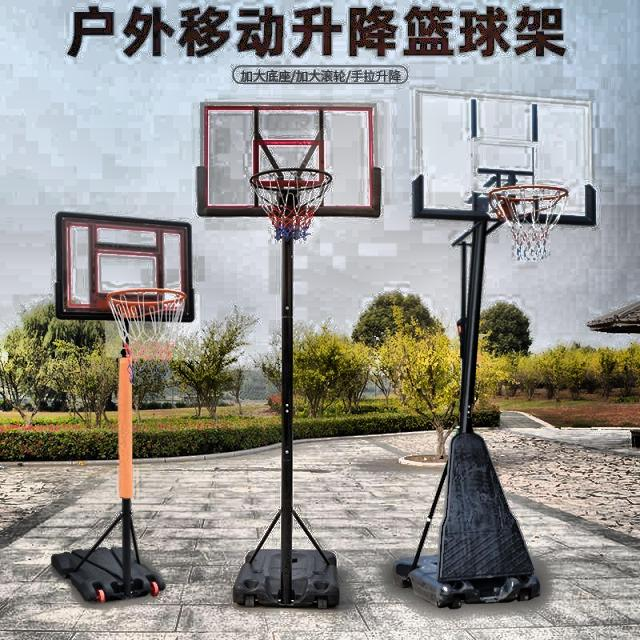rim: (487, 187, 568, 261), (252, 169, 334, 242), (108, 287, 185, 363)
